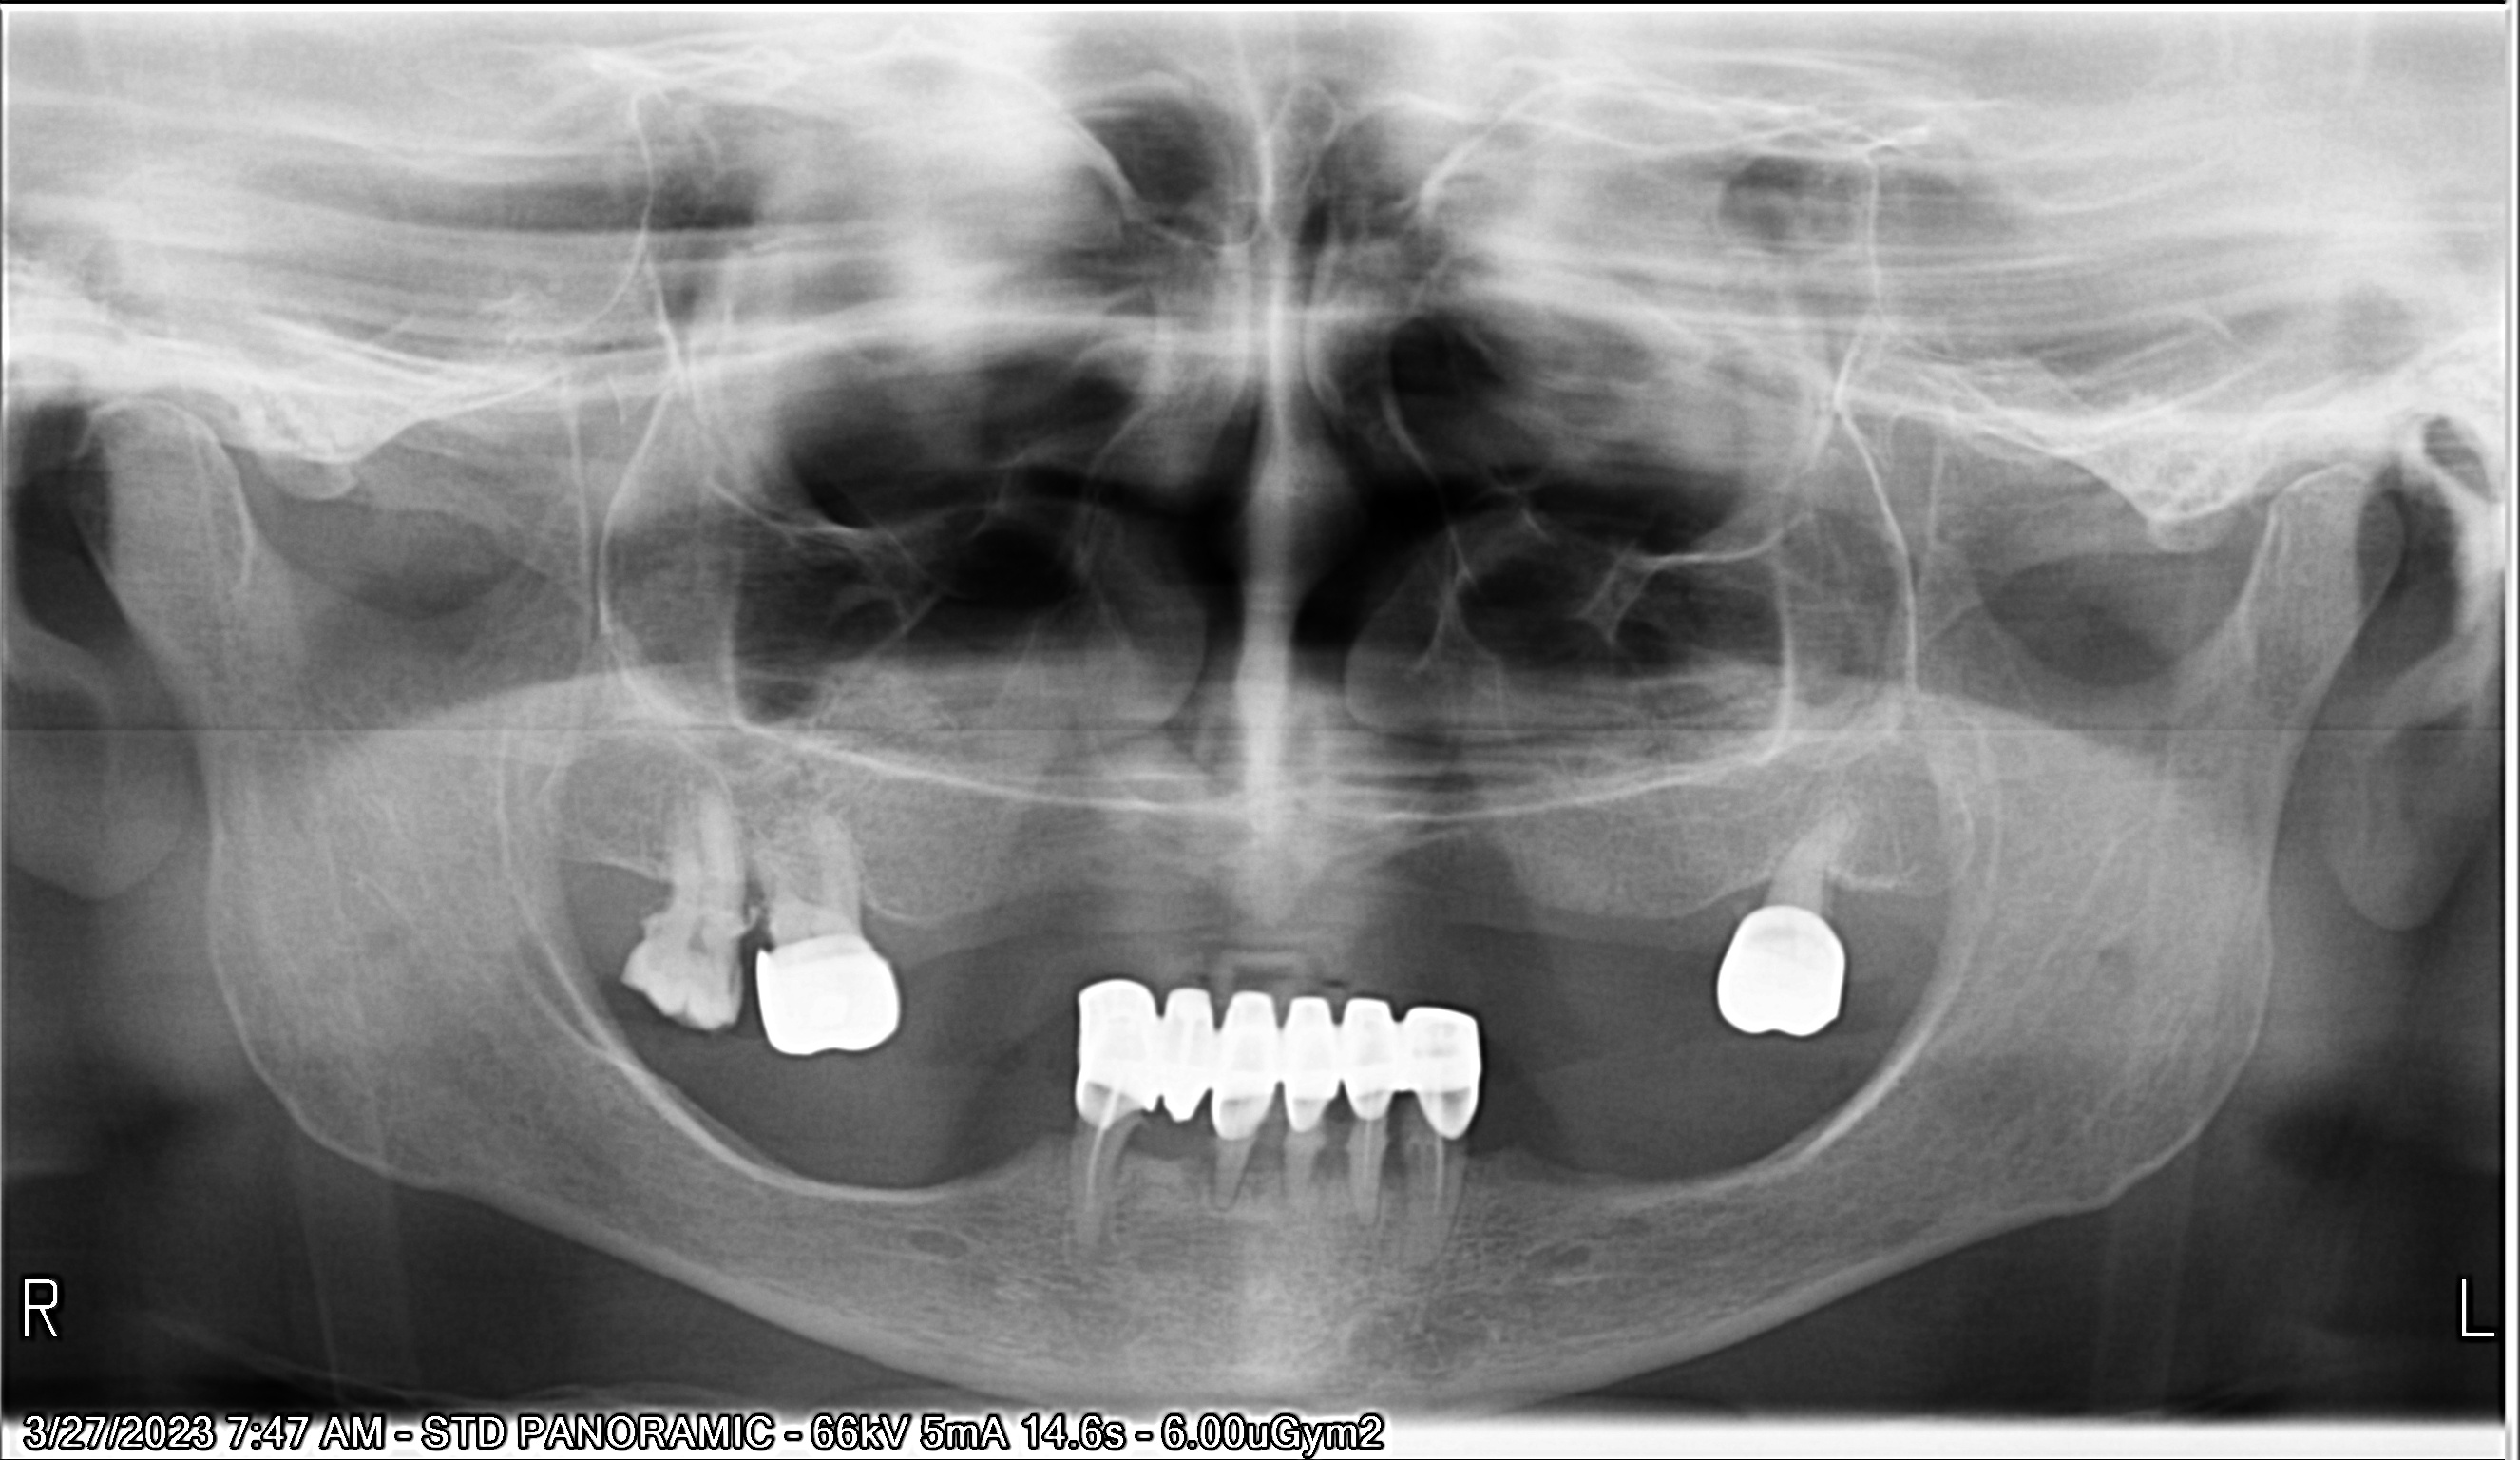API: (1801, 784, 1886, 850), (676, 761, 733, 824), (653, 784, 698, 848), (1063, 1227, 1106, 1286), (1202, 1161, 1242, 1222)
BON: (1379, 1102, 1412, 1182), (1257, 1102, 1290, 1175), (743, 869, 771, 937), (1758, 853, 1782, 916), (1325, 1102, 1342, 1178), (1113, 1135, 1132, 1192), (1822, 866, 1841, 919)
END: (1082, 1079, 1120, 1225), (1426, 1130, 1445, 1222)
FUR: (688, 855, 717, 900)
PRR: (1054, 975, 1492, 1156), (1718, 895, 1844, 1064), (755, 939, 901, 1055)
